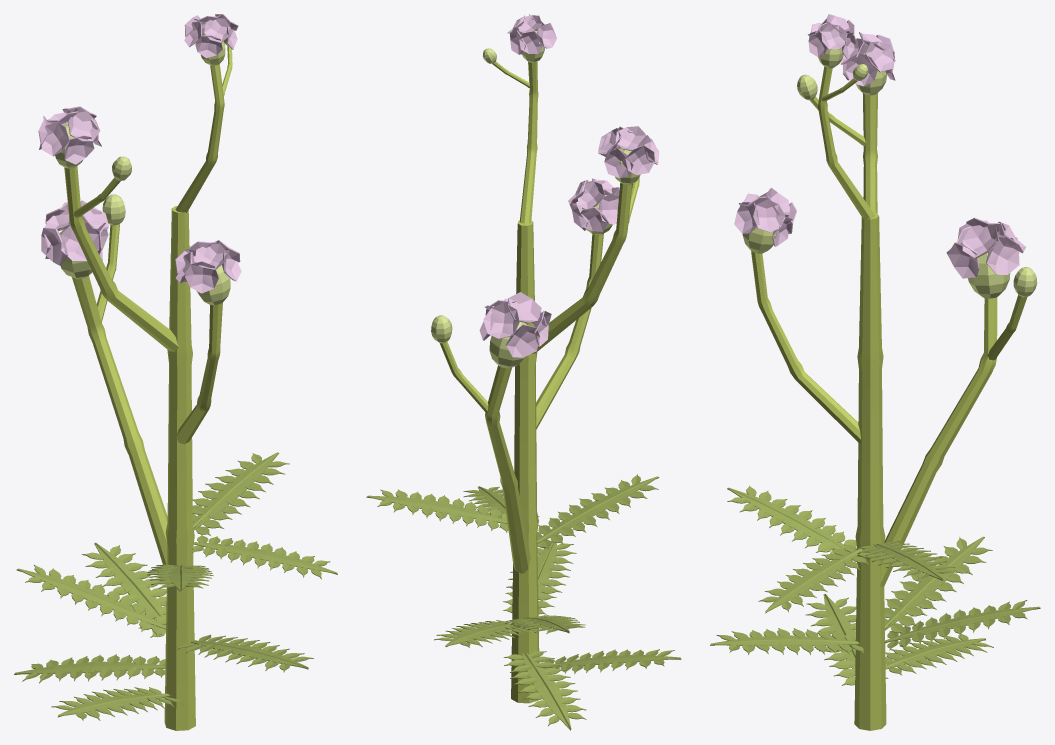
File: broken_canadathistle.fbx
3 renders of one model, left to right at view 1: azimuth 30°, elevation 25°; view 2: azimuth 150°, elevation 25°; view 3: azimuth 270°, elevation 25°, orthographic. The views are drawn at different scales.
Visible parts, largest first — view 1: CanadaThistle_broken; view 2: CanadaThistle_broken; view 3: CanadaThistle_broken.
Part boxes in pixels (bbox=[...]): CanadaThistle_broken: bbox=[14, 14, 337, 730]; CanadaThistle_broken: bbox=[366, 14, 681, 730]; CanadaThistle_broken: bbox=[710, 14, 1040, 730].
Bounding box in the file's own units: 2.6 × 6.36 × 2.67.
